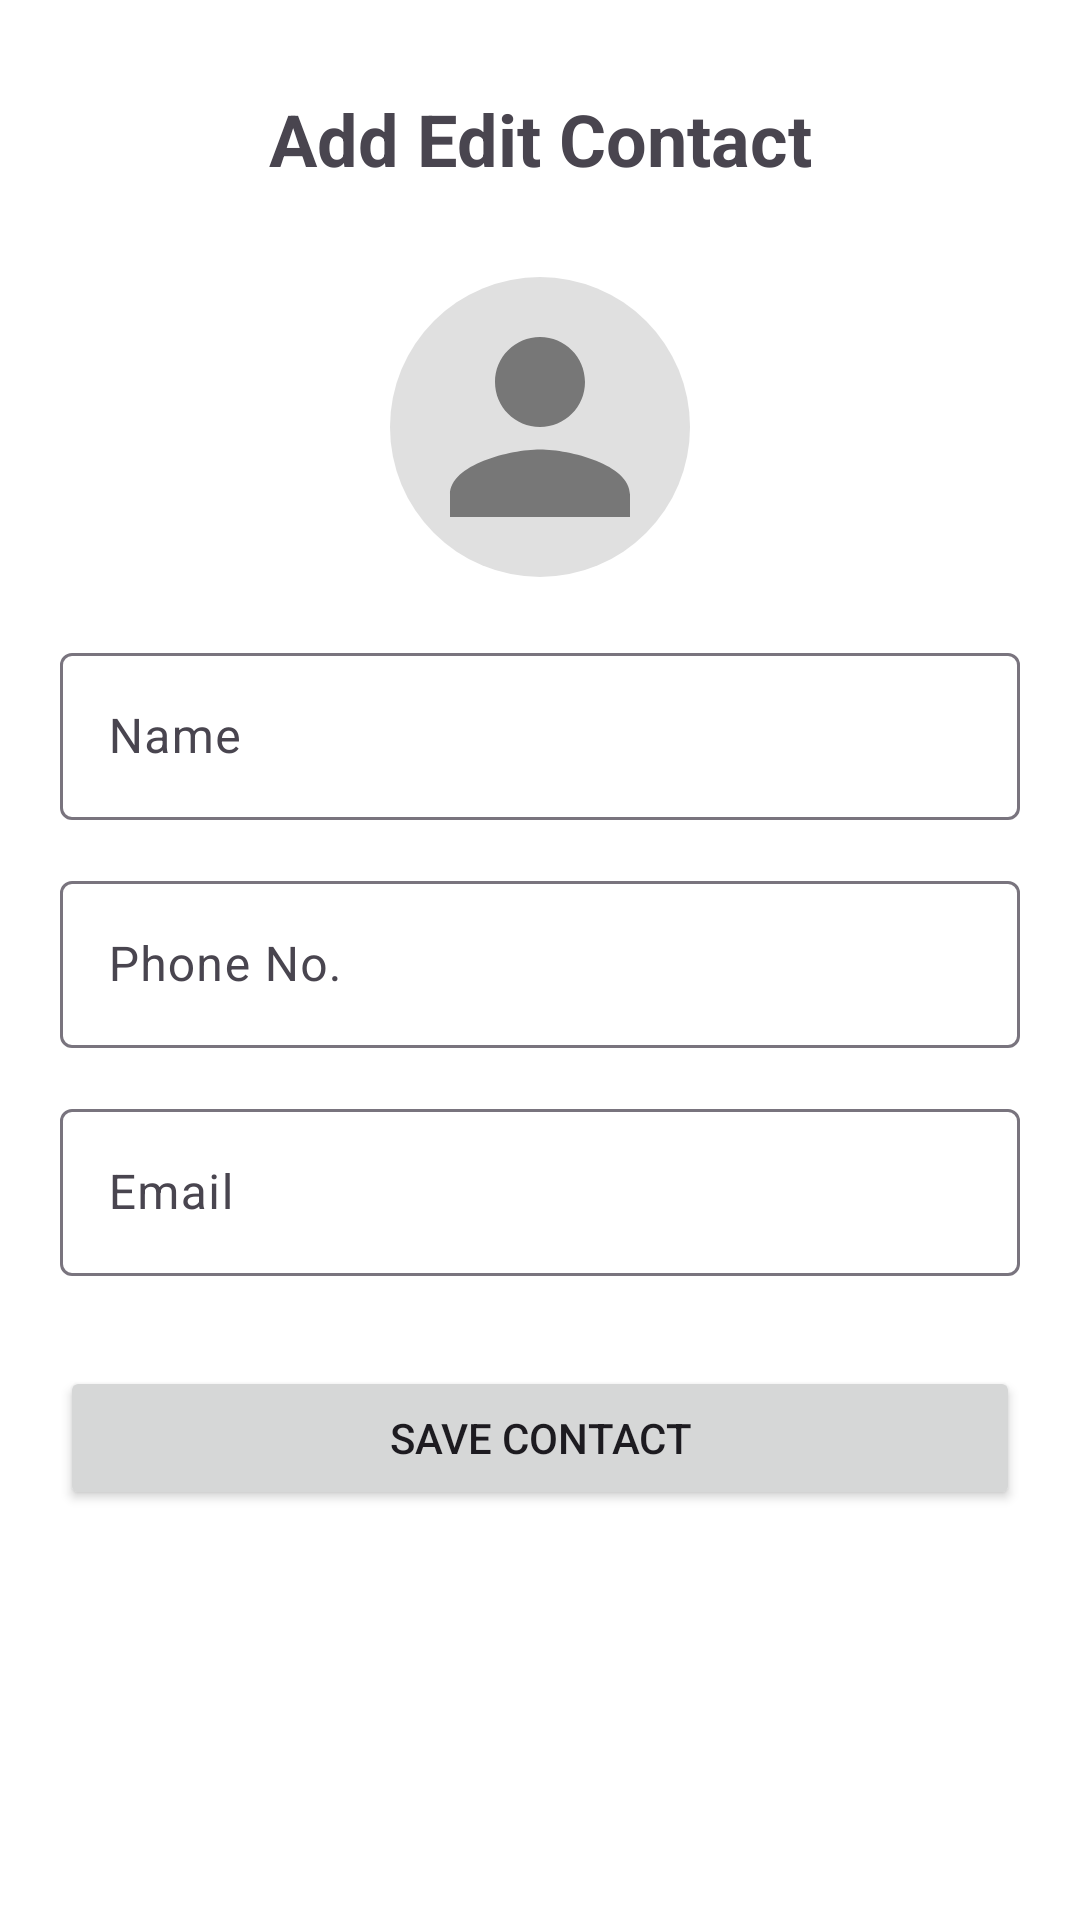

Point at icon controls on the screen. Image size 1080px×1920px, points as [x,y].
person: [540,427]
